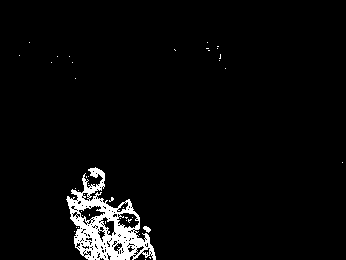person: (66, 165, 114, 260), (104, 199, 156, 260)
